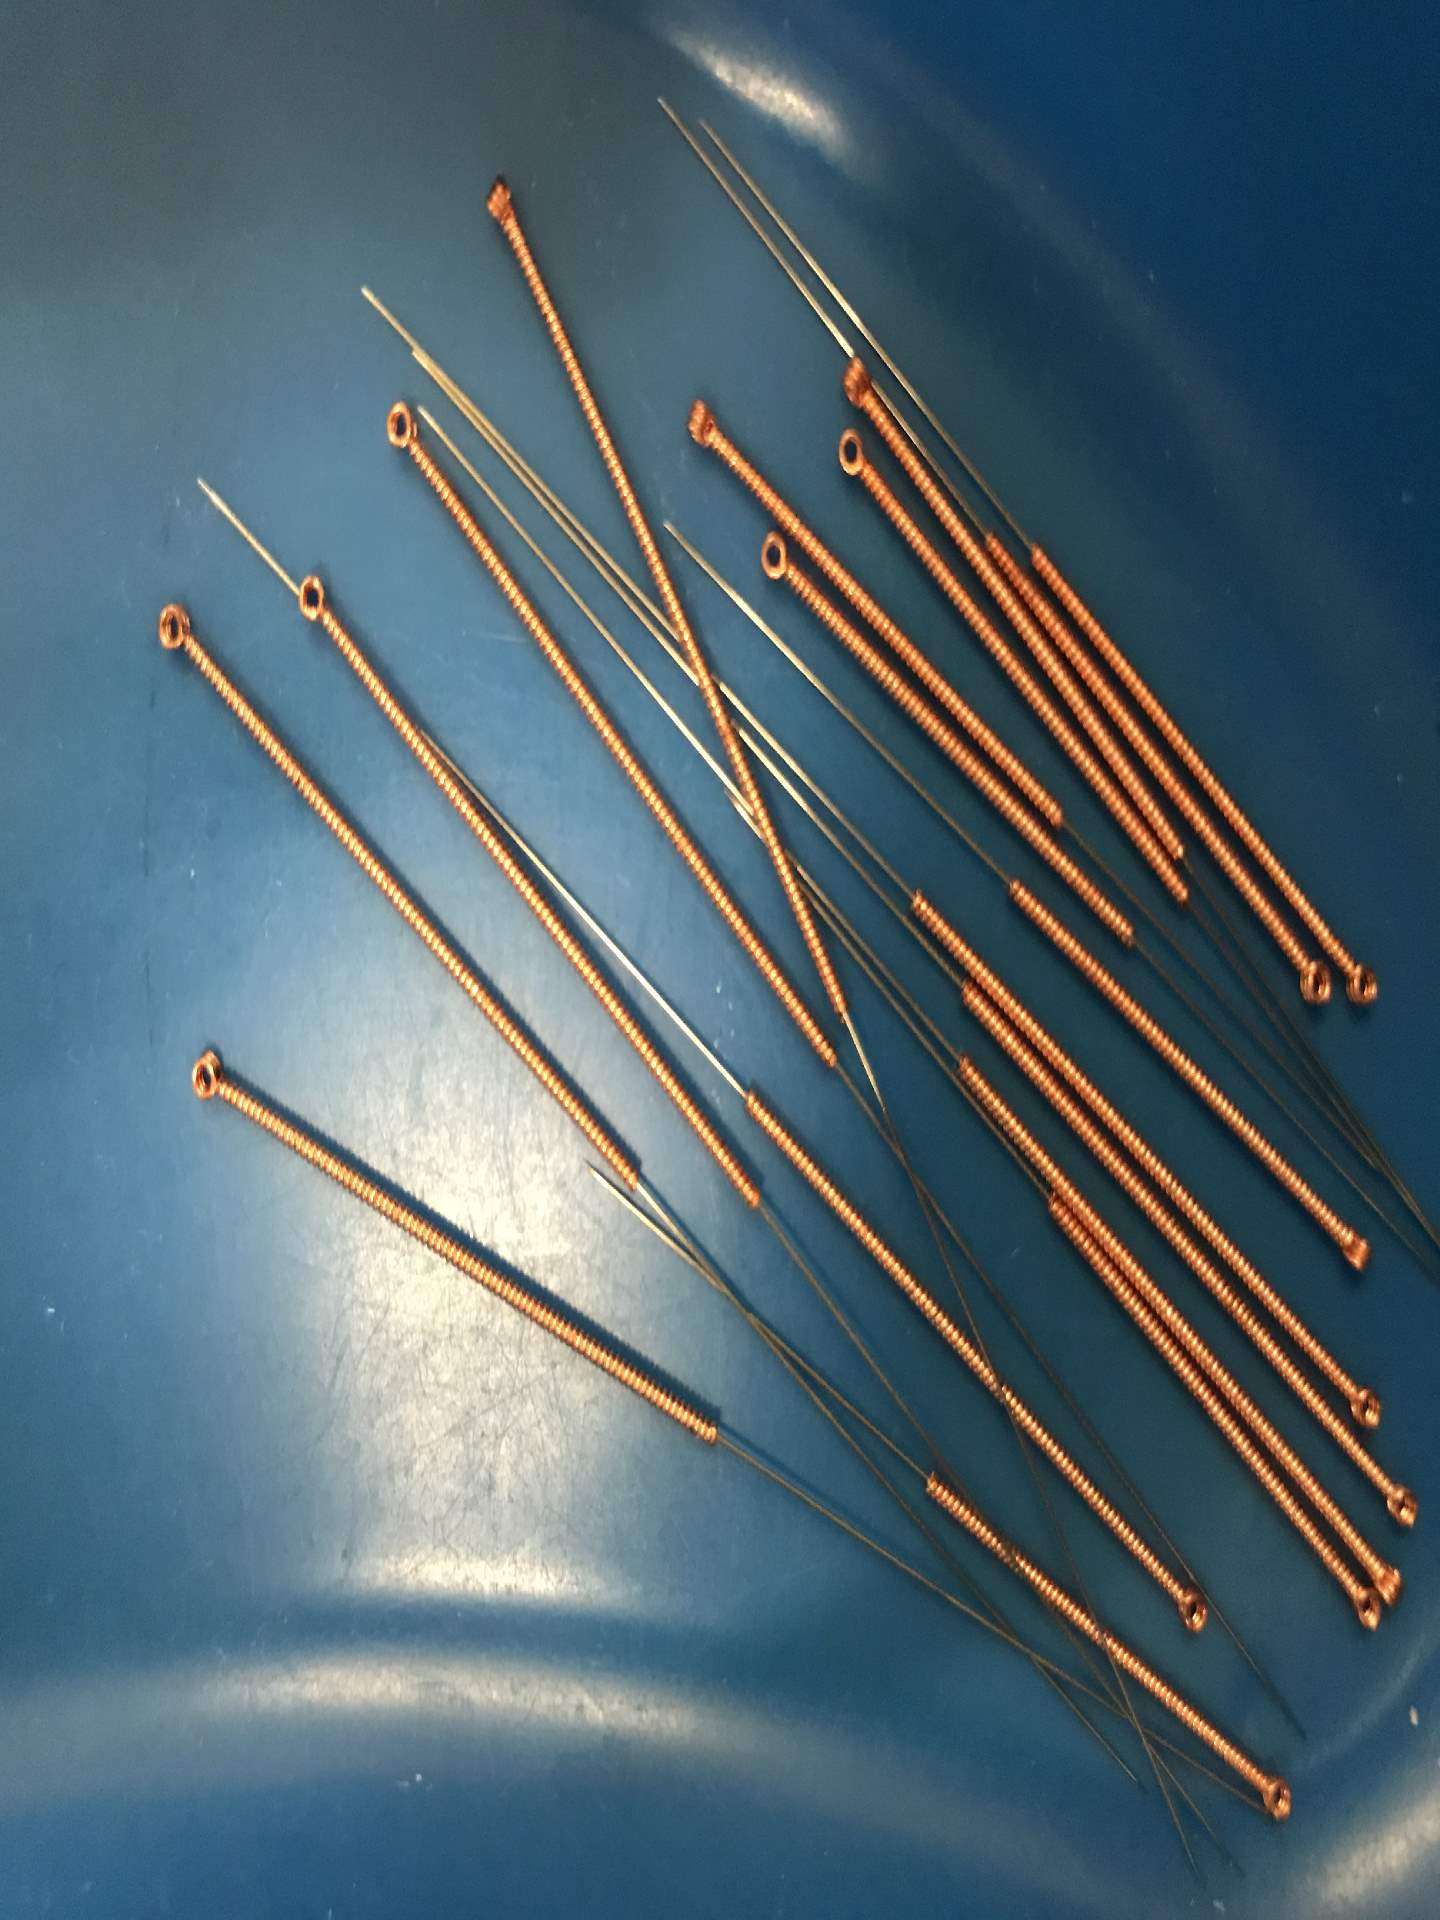needle: (168, 1036, 248, 1113), (667, 382, 740, 466), (821, 345, 891, 423), (815, 420, 883, 500), (281, 556, 345, 641), (142, 588, 209, 668), (1157, 1568, 1224, 1646), (371, 387, 434, 469), (1243, 1758, 1310, 1835), (469, 160, 531, 237), (1336, 937, 1392, 1022), (1322, 1214, 1386, 1285), (1367, 1466, 1429, 1538), (738, 525, 797, 599), (1278, 951, 1336, 1027), (1342, 1371, 1392, 1438), (1333, 1578, 1383, 1643), (1369, 1542, 1411, 1612)
